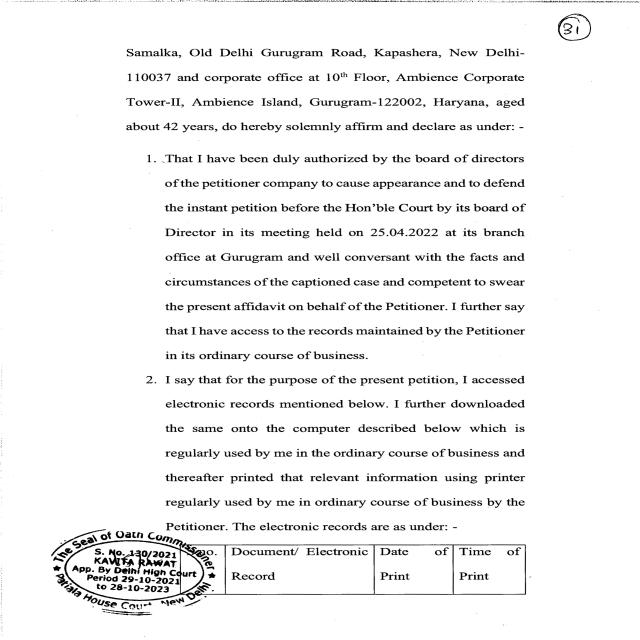page-number: (526, 4, 636, 147)
